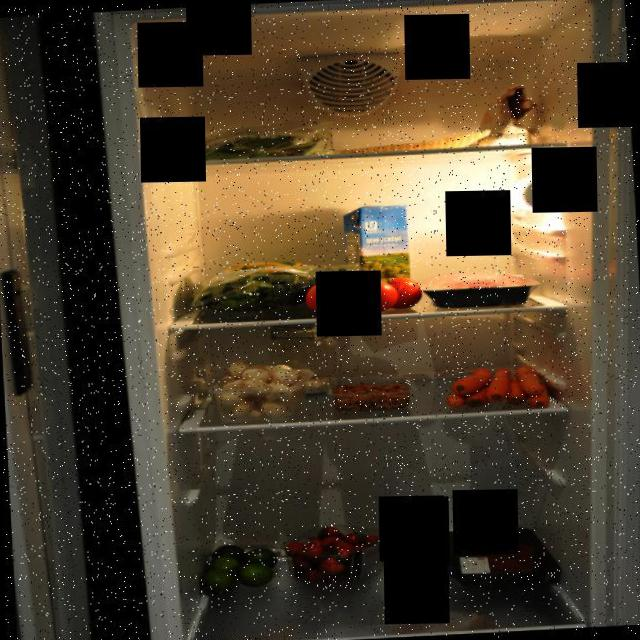Carne vacuno: (426, 524, 562, 592)
Champiñones: (211, 350, 316, 422)
Gambas/Langostinos: (328, 380, 408, 412)
Leche: (342, 202, 417, 296)
Tomate: (300, 270, 423, 316)
Zanahoria: (441, 362, 554, 416)
